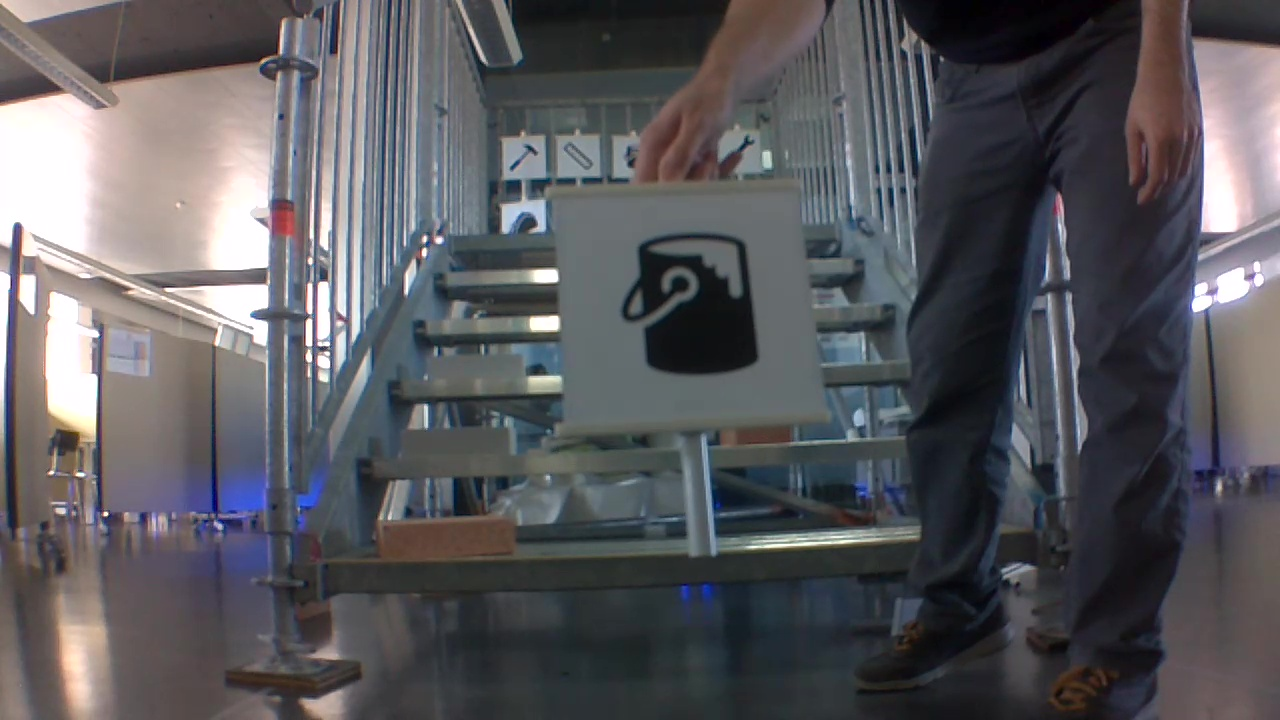brick: (375, 518, 514, 557), (402, 425, 515, 461), (427, 355, 522, 383), (721, 425, 793, 444)
bucket: (611, 226, 767, 383)
hammer: (504, 139, 540, 173)
ruler: (560, 139, 596, 175)
taco: (506, 208, 540, 231)
